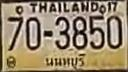0: (25, 16, 40, 49), (106, 15, 121, 48)
3: (54, 16, 69, 49)
5: (89, 15, 104, 49)
7: (7, 16, 22, 50)
8: (72, 15, 87, 49)
NBI: (43, 52, 85, 70)
